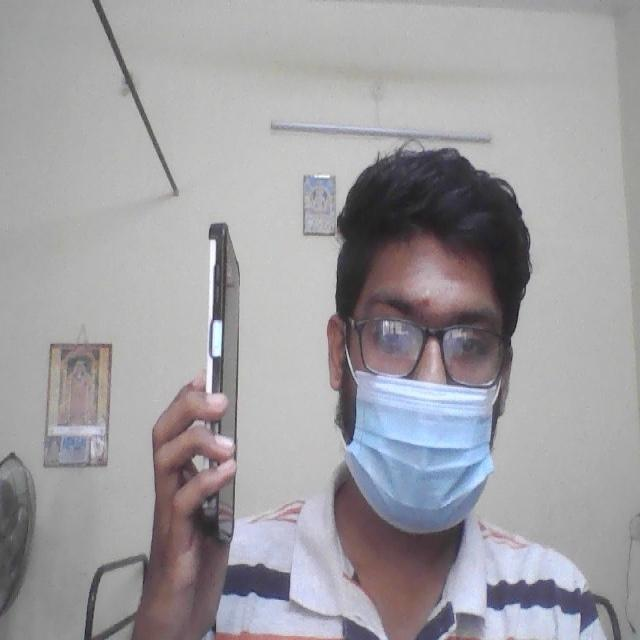Mobile: (201, 185, 246, 558)
